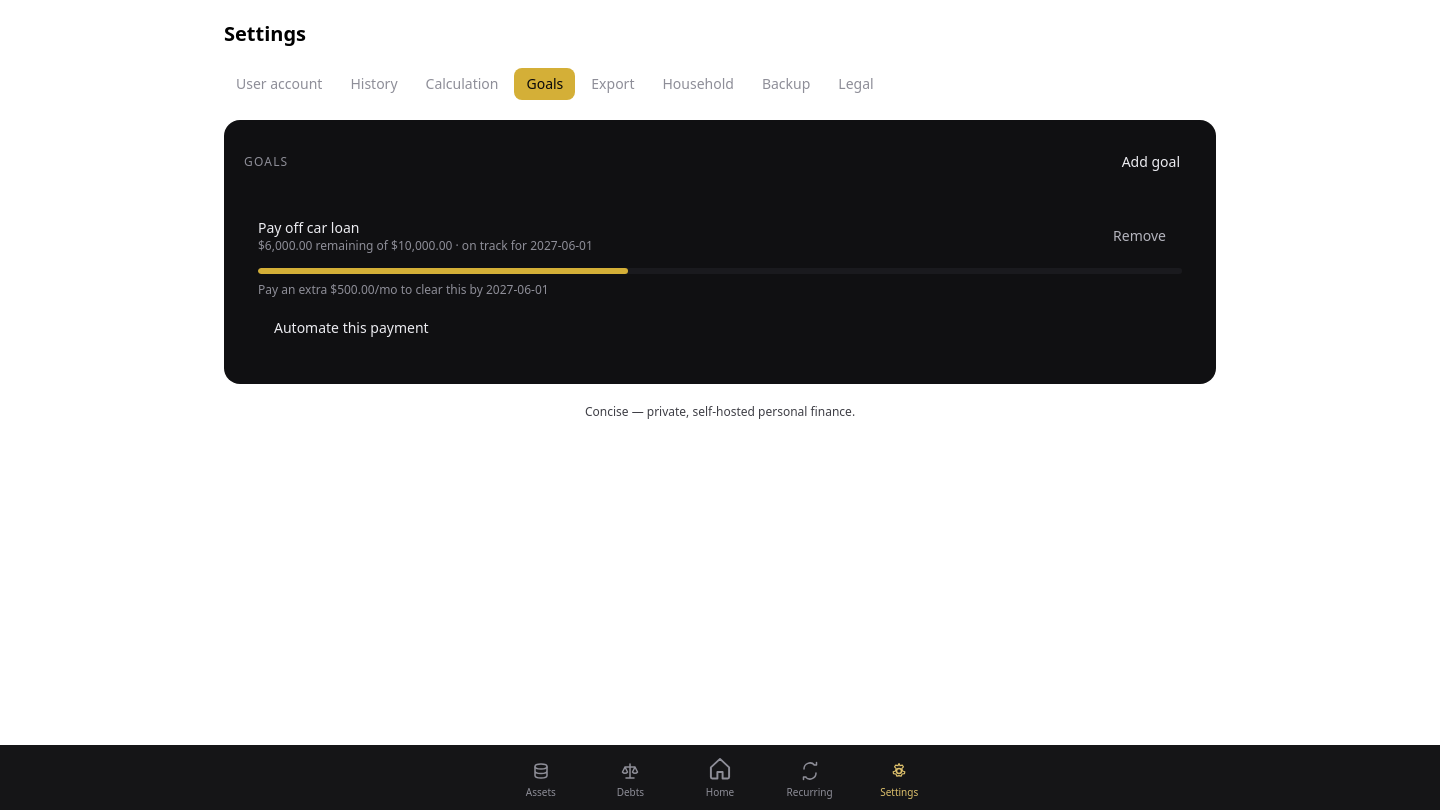
Test case: goal funding suggestion › shows an error and keeps the button clickable when scheduling fails
Click the button "Automate this payment" at (351, 328), box [258, 306, 445, 350]
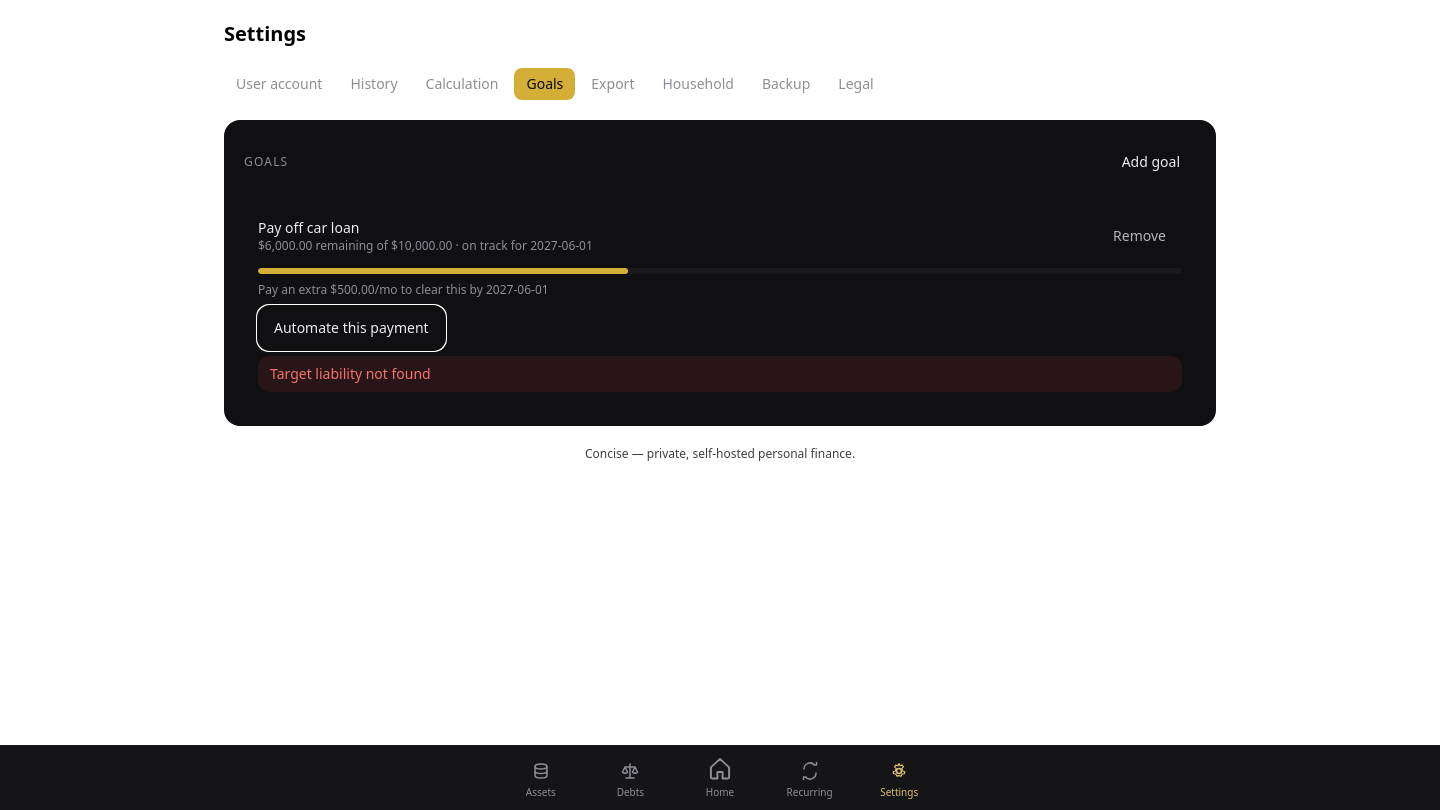
Expected: the text "Target liability not found" is shown, [258, 356, 1182, 392]
